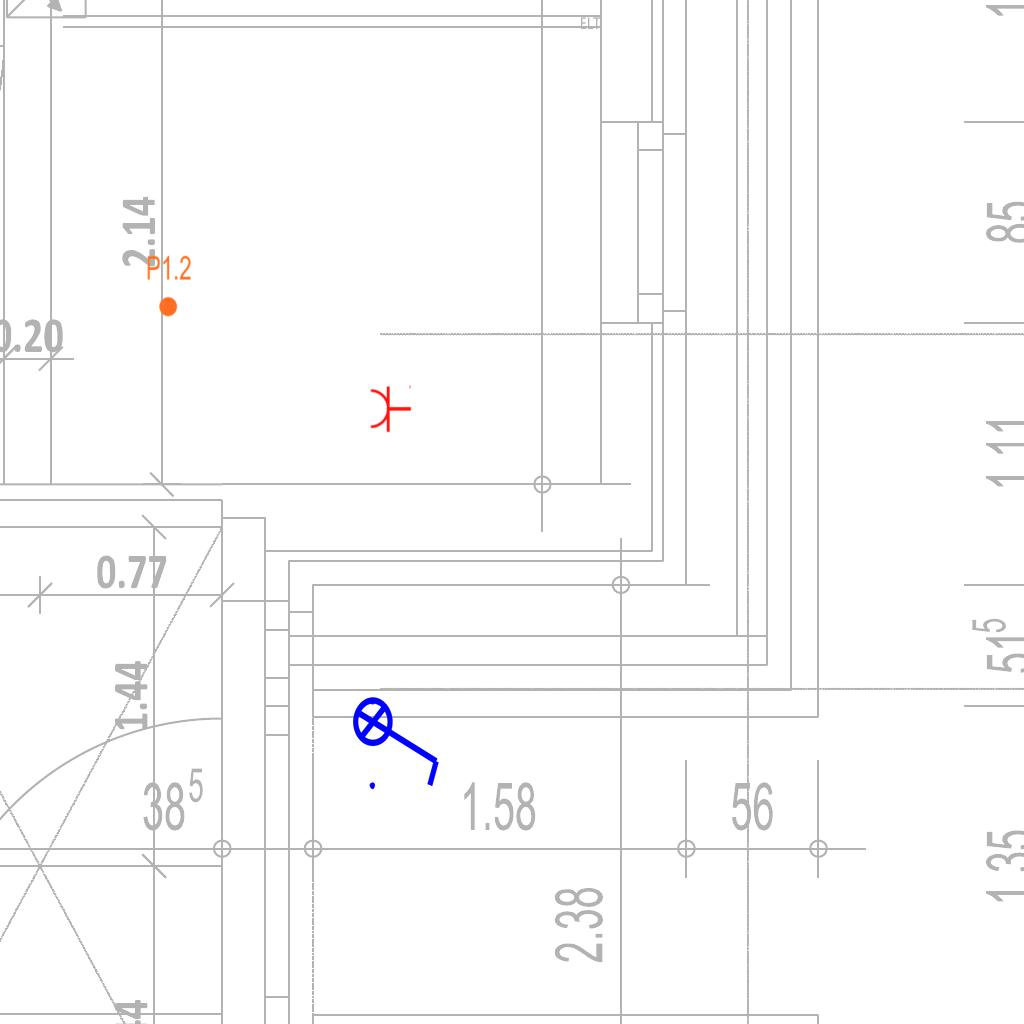Ausschalter_beleuchtet: (351, 683, 447, 795)
Downlight_LED_Einbauleuchten_Flur: (146, 254, 192, 318)
Schukosteckdose_einfach: (369, 383, 412, 433)
